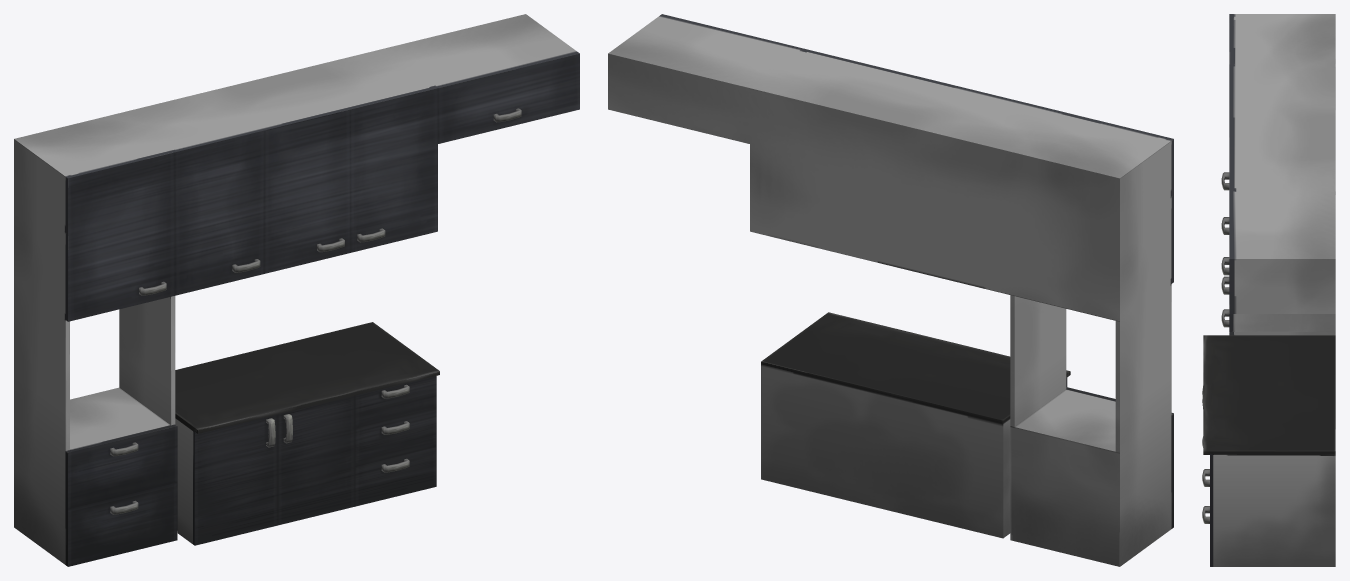
The model's file is Kitchen_Cabinet_1.fbx.
3 views of the same model, side by side, from view 1: azimuth 30°, elevation 25°; view 2: azimuth 150°, elevation 25°; view 3: azimuth 270°, elevation 25° (orthographic).
Parts seen in each view (by area): view 1: Cube.003, Cube.000; view 2: Cube.003, Cube.000; view 3: Cube.003, Cube.000.
Boxes of the visible parts, <box> form: Cube.003: <box>14,14,579,566</box>; Cube.000: <box>175,322,439,545</box>; Cube.003: <box>608,14,1173,566</box>; Cube.000: <box>761,312,1070,538</box>; Cube.003: <box>1221,14,1335,335</box>; Cube.000: <box>1202,335,1335,566</box>.
Bounding box in the file's own units: 698 × 506 × 160.
